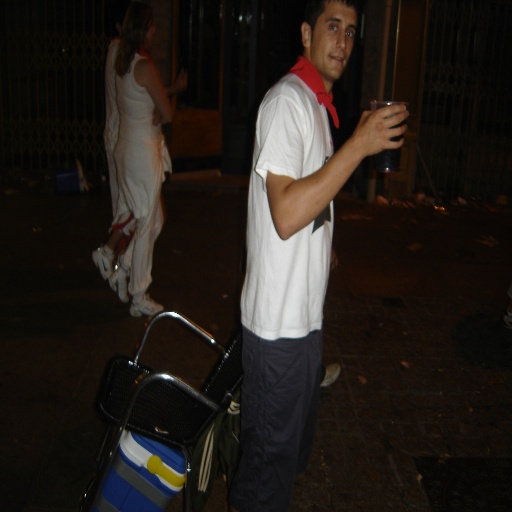hand: (319, 93, 405, 216), (329, 248, 339, 272), (152, 105, 162, 127), (176, 70, 187, 90)
